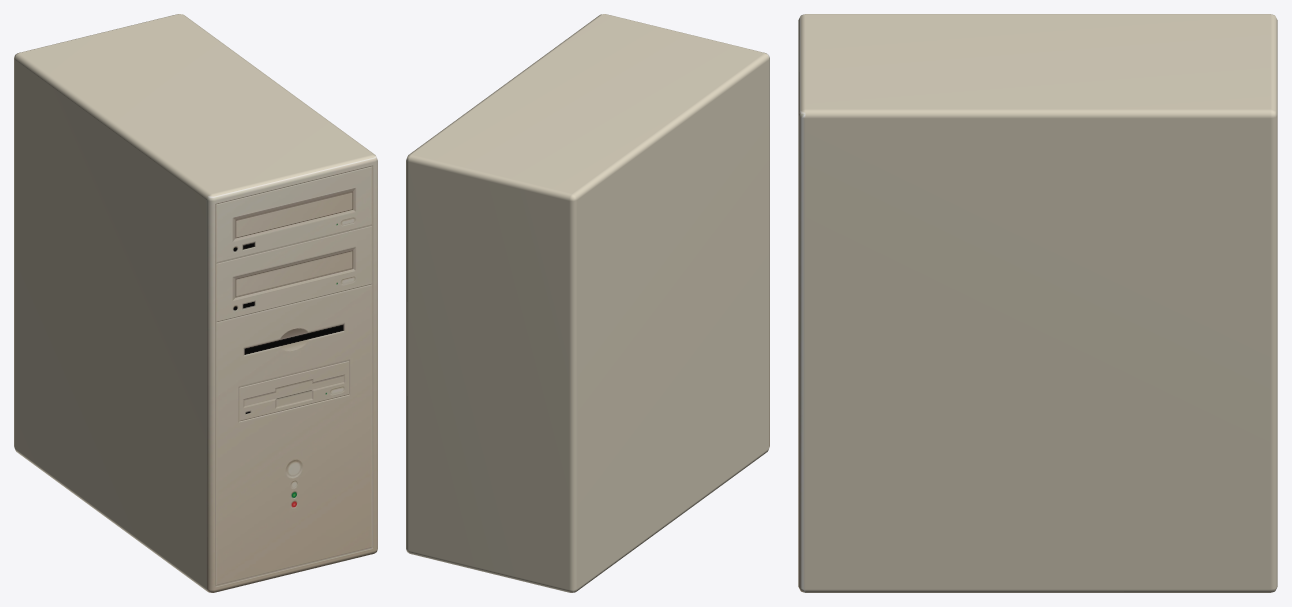
File: old_pc_tower.glb
The picture shows the model from 3 angles, left to right: view 1: azimuth 30°, elevation 25°; view 2: azimuth 150°, elevation 25°; view 3: azimuth 270°, elevation 25°; orthographic projection. The views are drawn at different scales.
Visible parts, largest first — view 1: oldPCtower; view 2: oldPCtower; view 3: oldPCtower.
Boxes of the visible parts, x1,y1,x2,y2 form: oldPCtower: (14,14,377,592); oldPCtower: (406,14,769,592); oldPCtower: (798,14,1277,592).
Bounding box in the file's own units: 0.0439 × 0.098 × 0.0881.
Materials: 1 (1 with a texture image).
